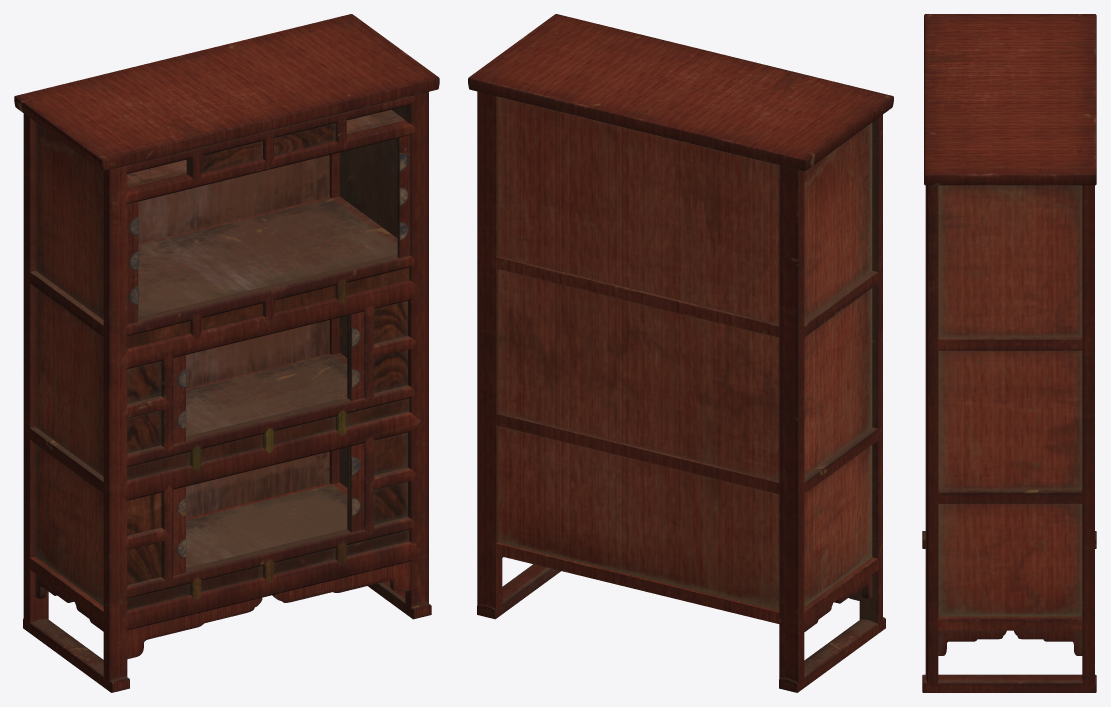
File: SM_ThreetieredCupboard_body.fbx
The picture shows the model from 3 angles, left to right: view 1: azimuth 30°, elevation 25°; view 2: azimuth 150°, elevation 25°; view 3: azimuth 270°, elevation 25°; orthographic projection. The views are drawn at different scales.
Parts seen in each view (by area): view 1: SM_ThreetieredCupboard_body; view 2: SM_ThreetieredCupboard_body; view 3: SM_ThreetieredCupboard_body.
Boxes of the visible parts, x1,y1,x2,y2 form: SM_ThreetieredCupboard_body: [14, 14, 439, 692]; SM_ThreetieredCupboard_body: [468, 14, 893, 692]; SM_ThreetieredCupboard_body: [922, 14, 1096, 692].
Bounding box in the file's own units: 119 × 179 × 54.01.
Materials: 1 (1 with a texture image).
